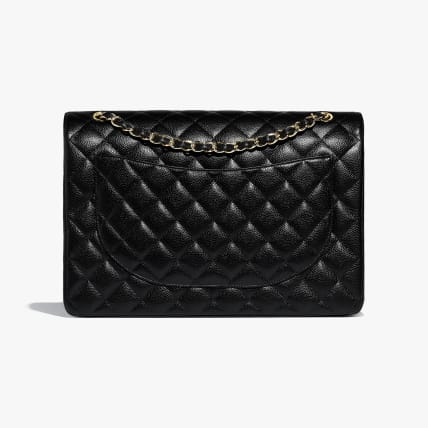channel: (56, 89, 387, 346), (77, 157, 376, 305), (80, 109, 346, 157)
